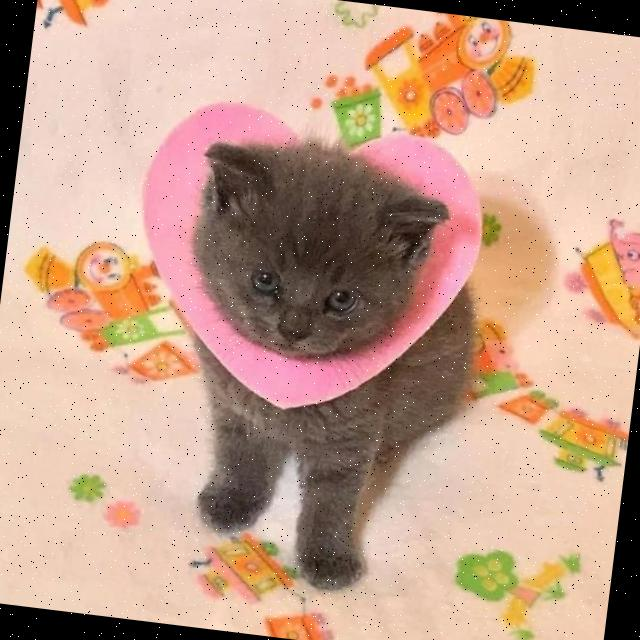cat: (144, 112, 544, 608)
